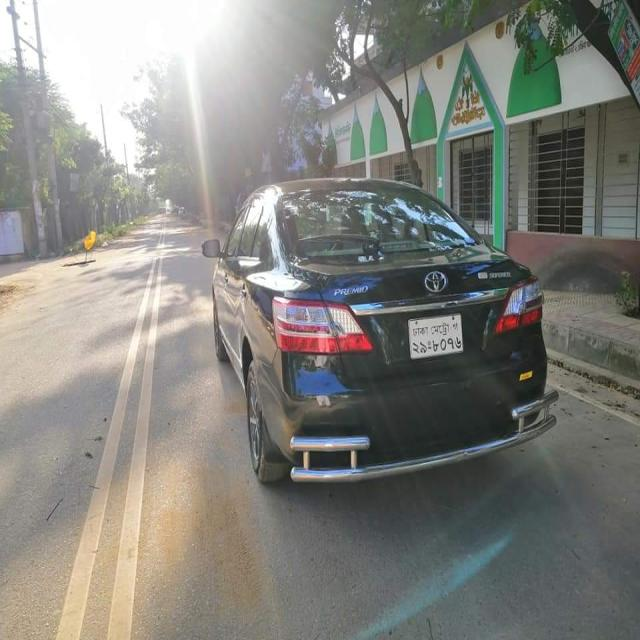black: (208, 179, 558, 482)
